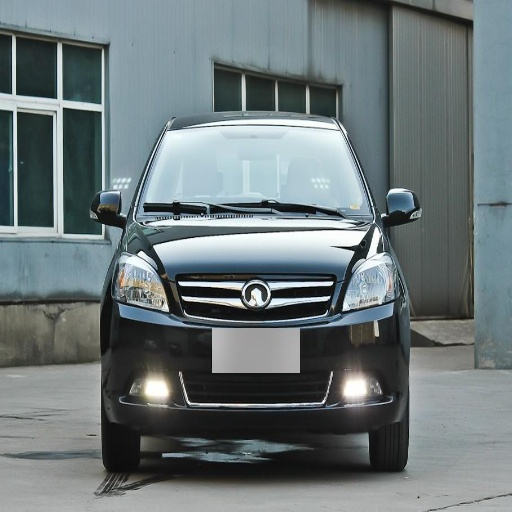front_bumper: (109, 278, 400, 431)
front_right_light: (112, 253, 170, 313)
hood: (128, 212, 382, 295)
left_mirror: (382, 189, 420, 228)
